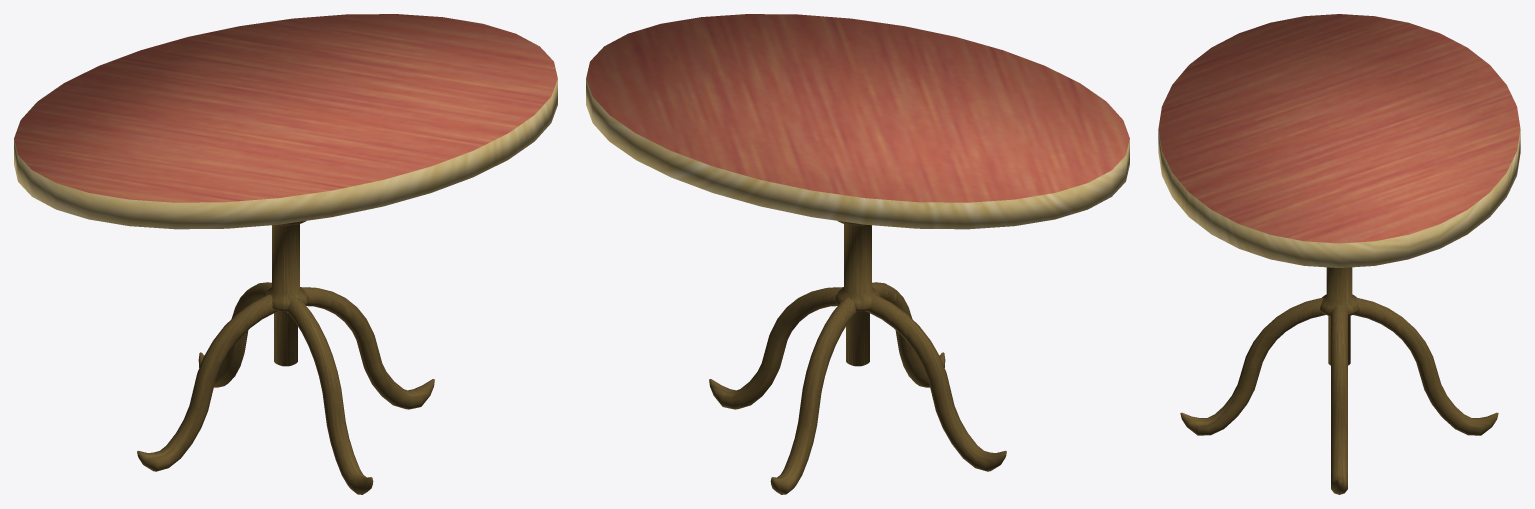
File: ctable 1.fbx
3 renders of one model, left to right at view 1: azimuth 30°, elevation 25°; view 2: azimuth 150°, elevation 25°; view 3: azimuth 270°, elevation 25°, orthographic. The views are drawn at different scales.
Visible parts, largest first — view 1: table, foot; view 2: table, foot; view 3: table, foot.
Boxes of the visible parts, x1,y1,x2,y2 form: table: [14, 14, 557, 366]; foot: [137, 282, 434, 494]; table: [586, 14, 1129, 366]; foot: [709, 282, 1006, 494]; table: [1158, 14, 1520, 365]; foot: [1180, 298, 1498, 494].
Bounding box in the file's own units: 600 × 373 × 400.
Materials: 1 (1 with a texture image).
